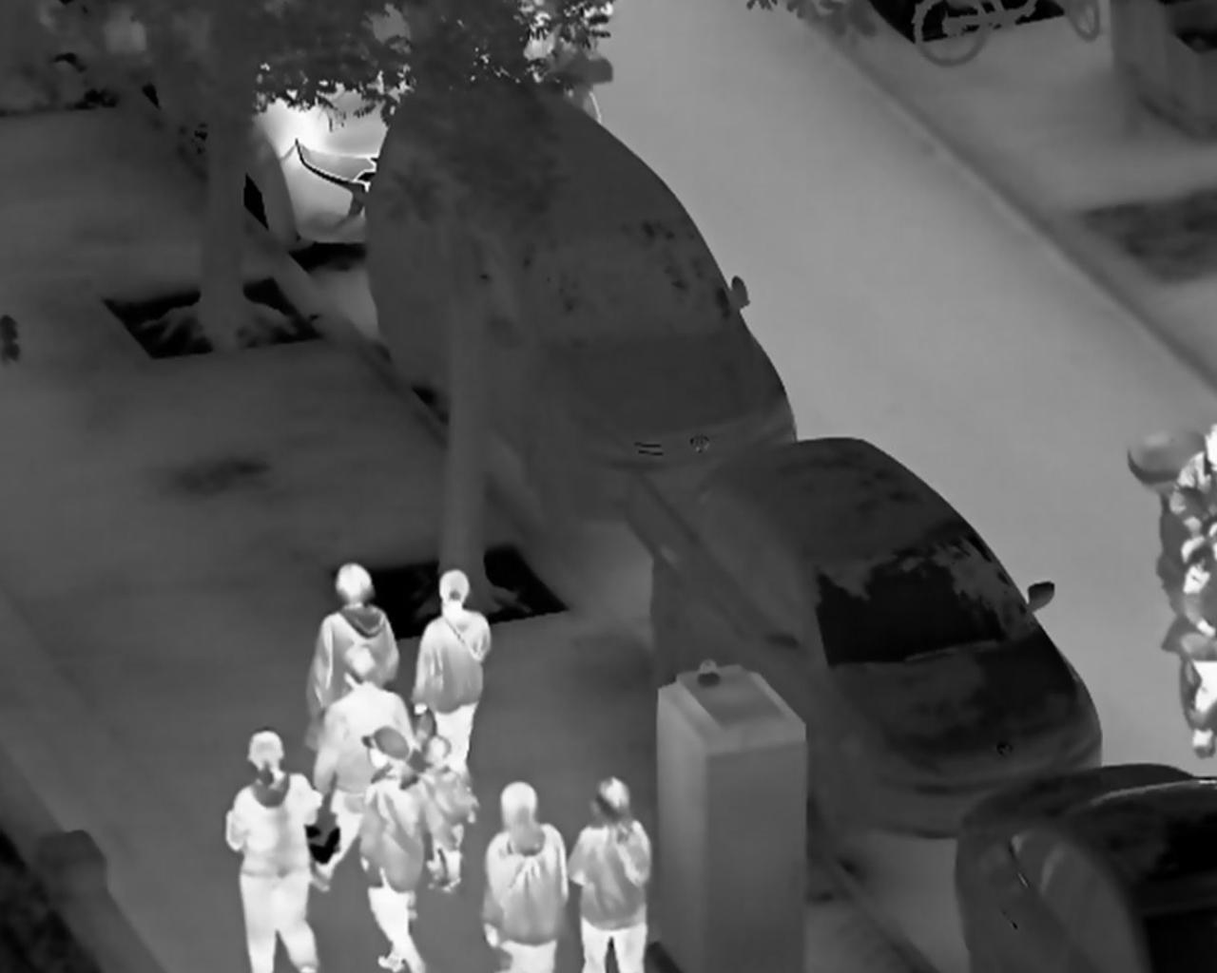person: (304, 646, 415, 898), (223, 729, 325, 973), (358, 726, 454, 973), (299, 561, 401, 753), (411, 569, 493, 787), (479, 780, 570, 973), (569, 773, 655, 973)
